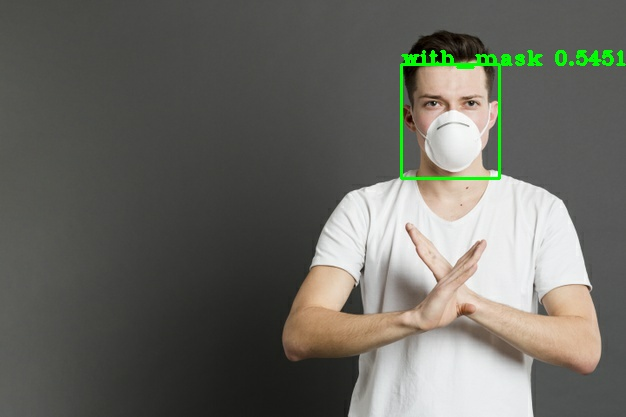with_mask: (393, 56, 510, 180)
